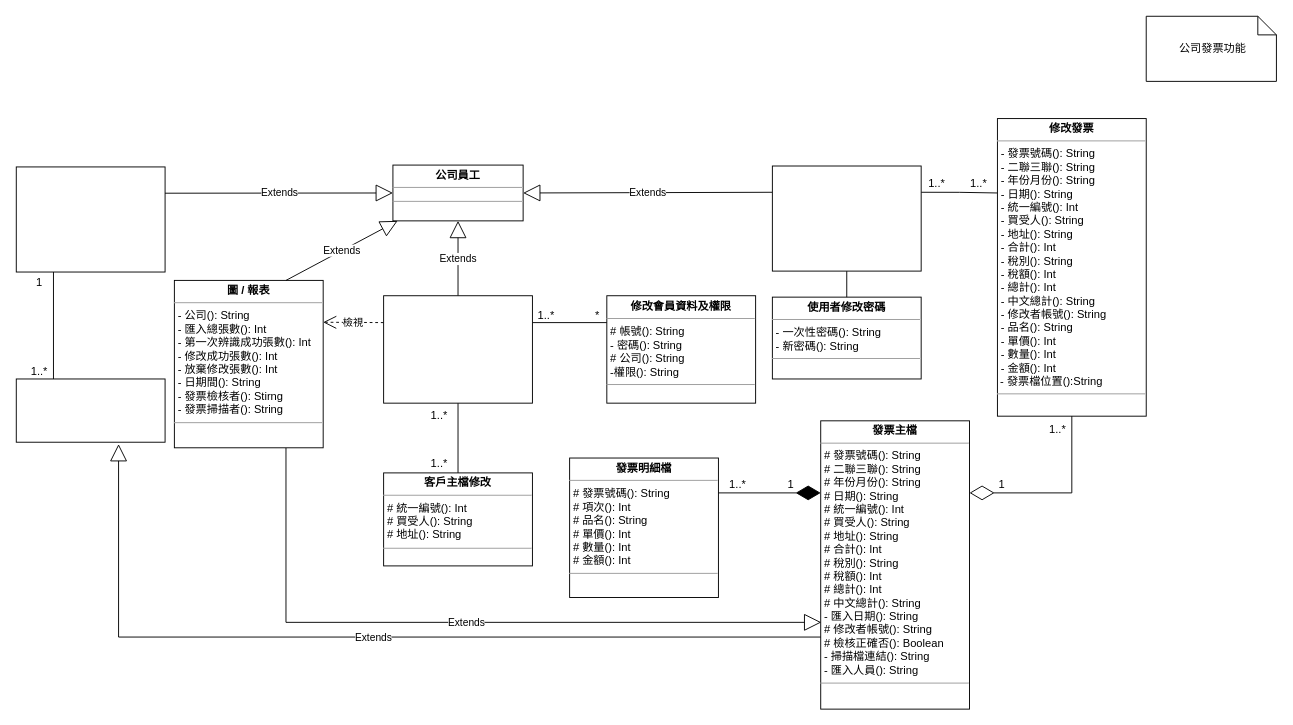
The diagram is 1293 pixels wide and 725 high, and some of its shapes have lost their labels. The centre of each missing label's shape, as x and y in pixels:
"公司管理者 # 帳號(): String - 密碼(): String # 公司(): String - 權限(): String" belongs at (x=457, y=349).
"掃描發票 - 發票(): Image" belongs at (x=90, y=410).
"發票掃描者(會員) # 帳號(): String - 密碼(): String # 公司(): String - 權限(): String" belongs at (x=90, y=219).
"發票檢核者(會員) # 帳號(): String - 密碼(): String # 公司(): String - 權限(): String" belongs at (x=846, y=218).
